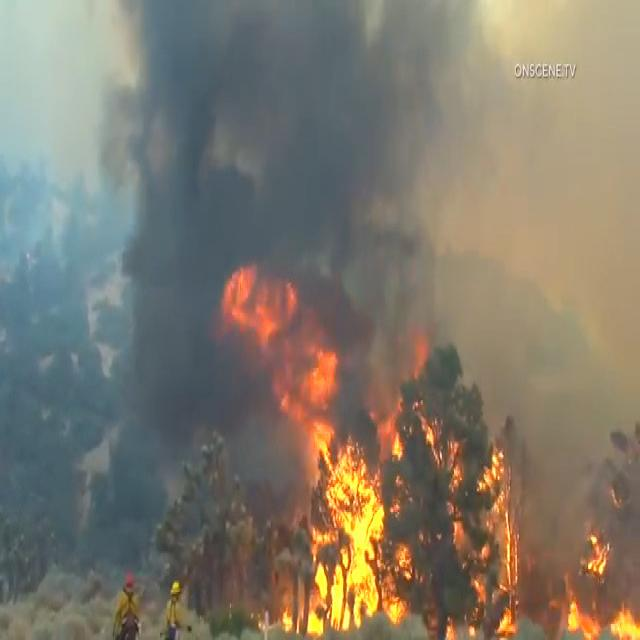fire: (300, 430, 380, 618), (549, 570, 639, 640), (494, 463, 531, 624)
smoke: (147, 14, 430, 260)
